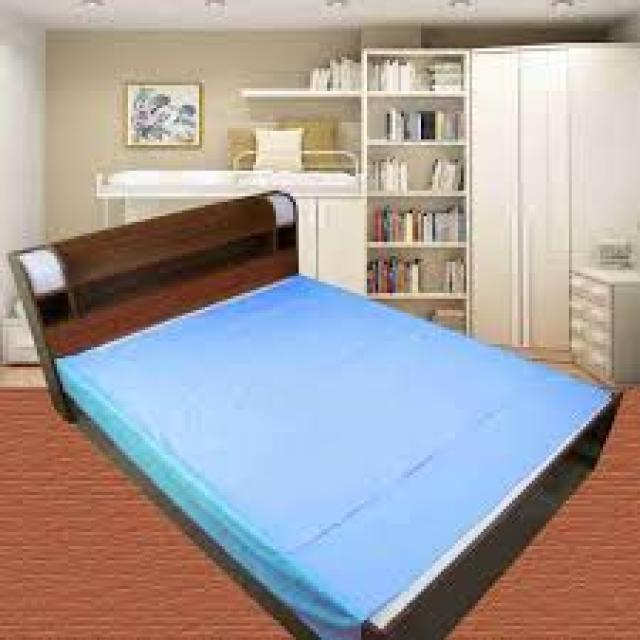bed: (6, 188, 620, 638)
